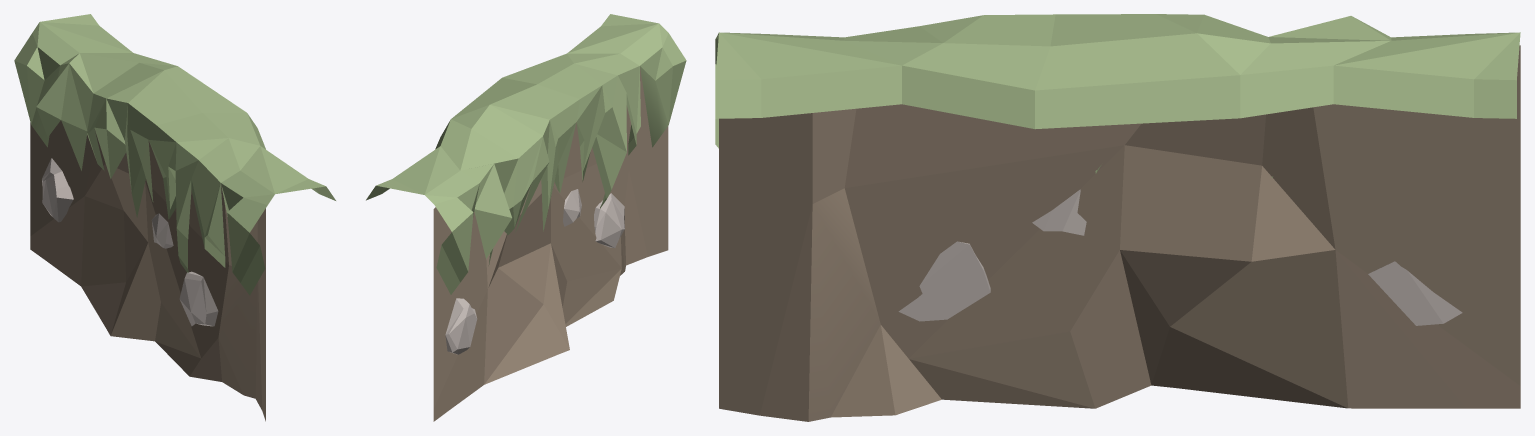
Rendered from ER_Terrain_1x1_Grass_Halfsize_001_B4.fbx.
3 views of the same model, side by side, from view 1: azimuth 30°, elevation 25°; view 2: azimuth 150°, elevation 25°; view 3: azimuth 270°, elevation 25° (orthographic). The views are drawn at different scales.
Visible parts, largest first — view 1: ER_Terrain_1x1_Grass_Halfsize_001_B4; view 2: ER_Terrain_1x1_Grass_Halfsize_001_B4; view 3: ER_Terrain_1x1_Grass_Halfsize_001_B4.
Part boxes in pixels (box(x1,y1,x2,y2)): ER_Terrain_1x1_Grass_Halfsize_001_B4: box(14, 14, 335, 421); ER_Terrain_1x1_Grass_Halfsize_001_B4: box(366, 14, 686, 421); ER_Terrain_1x1_Grass_Halfsize_001_B4: box(715, 14, 1520, 421).
Bounding box in the file's own units: 0.2967 × 0.5617 × 1.
